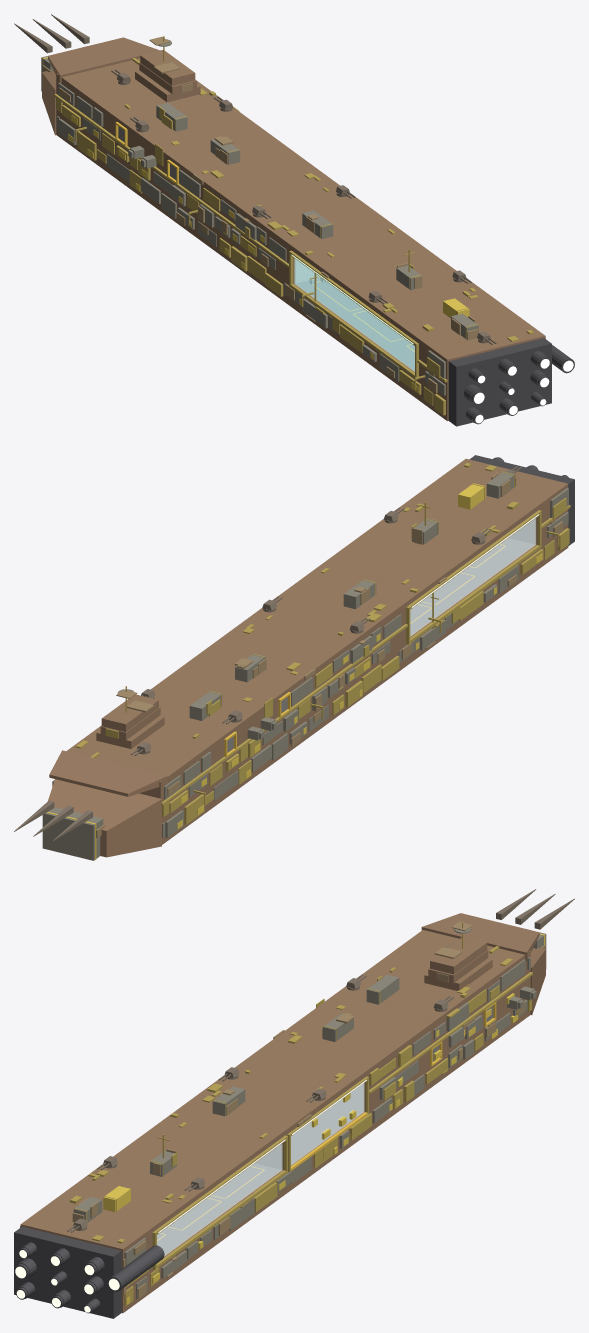
The model's file is ship_LARGE_v3.glb.
3 views of the same model, one above another, from view 1: azimuth 30°, elevation 25°; view 2: azimuth 150°, elevation 25°; view 3: azimuth 330°, elevation 25° (orthographic). The views are drawn at different scales.
Parts seen in each view (by area): view 1: LARGE_Hull-col, LARGE_Armor, LARGE_Trim, LARGE_Engines, LARGE_HangarShield_Port, LARGE_Decks-col, LARGE_ScrapPlates, LARGE_Accent, LARGE_Details, LARGE_ScrapTrim, LARGE_RamSpikes, LARGE_EngineGlow; view 2: LARGE_Hull-col, LARGE_Armor, LARGE_Trim, LARGE_HangarShield_Port, LARGE_Decks-col, LARGE_ScrapPlates, LARGE_Accent, LARGE_Engines, LARGE_ScrapTrim, LARGE_Details, LARGE_RamSpikes, LARGE_Hazard; view 3: LARGE_Hull-col, LARGE_Armor, LARGE_Engines, LARGE_Trim, LARGE_HangarShield_Starboard, LARGE_Decks-col, LARGE_ScrapPlates, LARGE_CargoBayShield, LARGE_CargoBayDoor-col, LARGE_Accent, LARGE_Details, LARGE_Hazard (+3 smaller).
Boxes of the visible parts, x1,y1,x2,y2 form: LARGE_Hull-col: (42, 37, 545, 420); LARGE_Armor: (41, 39, 545, 395); LARGE_Trim: (54, 36, 477, 415); LARGE_Engines: (448, 338, 574, 426); LARGE_HangarShield_Port: (294, 258, 414, 371); LARGE_Decks-col: (296, 278, 414, 370); LARGE_ScrapPlates: (42, 36, 478, 393); LARGE_Accent: (42, 57, 469, 392); LARGE_Details: (124, 58, 533, 341); LARGE_ScrapTrim: (155, 106, 440, 378); LARGE_RamSpikes: (14, 14, 89, 53); LARGE_EngineGlow: (474, 359, 573, 423); LARGE_Hull-col: (48, 458, 568, 857); LARGE_Armor: (42, 471, 568, 860); LARGE_Trim: (125, 471, 570, 824); LARGE_HangarShield_Port: (410, 518, 535, 636); LARGE_Decks-col: (410, 538, 534, 635); LARGE_ScrapPlates: (96, 472, 563, 838); LARGE_Accent: (46, 483, 542, 859); LARGE_Engines: (469, 455, 574, 545); LARGE_ScrapTrim: (105, 498, 566, 738); LARGE_Details: (75, 463, 518, 758); LARGE_RamSpikes: (14, 801, 92, 841); LARGE_Hazard: (224, 544, 505, 756); LARGE_Hull-col: (20, 913, 545, 1313); LARGE_Armor: (20, 928, 546, 1299); LARGE_Engines: (14, 1226, 164, 1318); LARGE_Trim: (74, 922, 532, 1306); LARGE_HangarShield_Starboard: (157, 1143, 282, 1256); LARGE_Decks-col: (157, 1163, 280, 1254); LARGE_ScrapPlates: (72, 921, 545, 1298); LARGE_CargoBayShield: (291, 1083, 364, 1165); LARGE_CargoBayDoor-col: (291, 1083, 363, 1164); LARGE_Accent: (103, 933, 545, 1304); LARGE_Details: (70, 946, 513, 1243); LARGE_Hazard: (157, 1002, 496, 1240).
Bounding box in the file's own units: 27.7 × 25.06 × 185.
